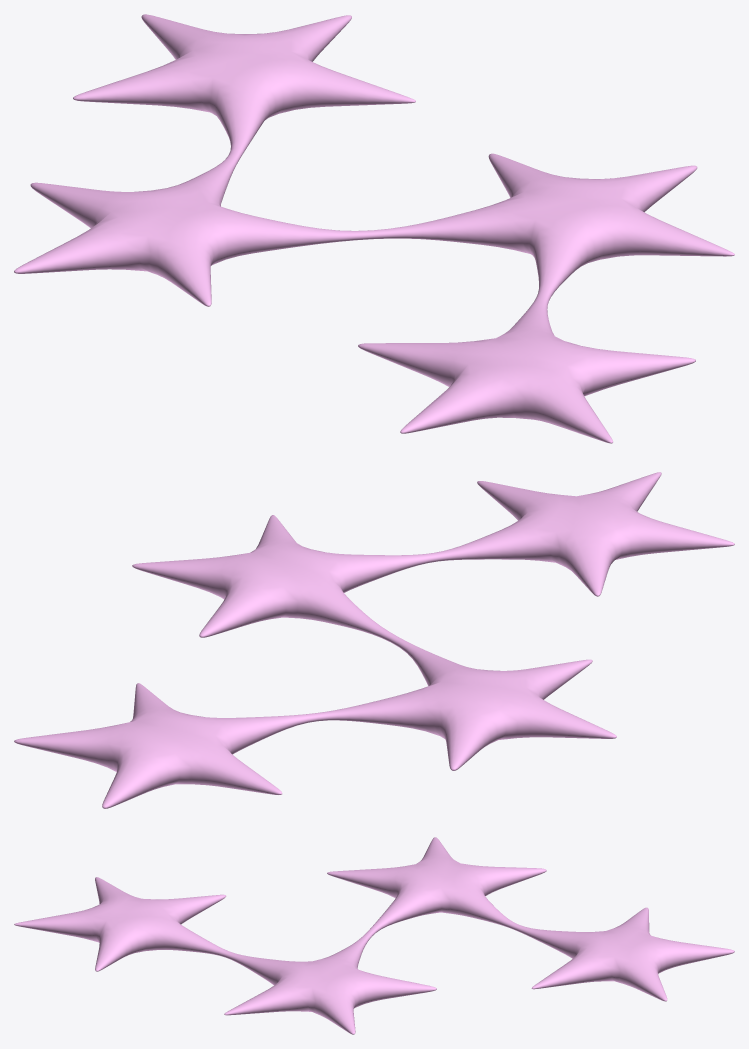
The picture shows the model from 3 angles, top to bottom: view 1: azimuth 30°, elevation 25°; view 2: azimuth 150°, elevation 25°; view 3: azimuth 270°, elevation 25°; orthographic projection. The views are drawn at different scales.
Parts seen in each view (by area): view 1: Cylinder; view 2: Cylinder; view 3: Cylinder.
Boxes of the visible parts, bbox=[...] form: Cylinder: bbox=[14, 14, 734, 443]; Cylinder: bbox=[14, 472, 734, 808]; Cylinder: bbox=[14, 837, 734, 1034].
Size of the model in its own units: 3.73 by 0.2563 by 5.78.
